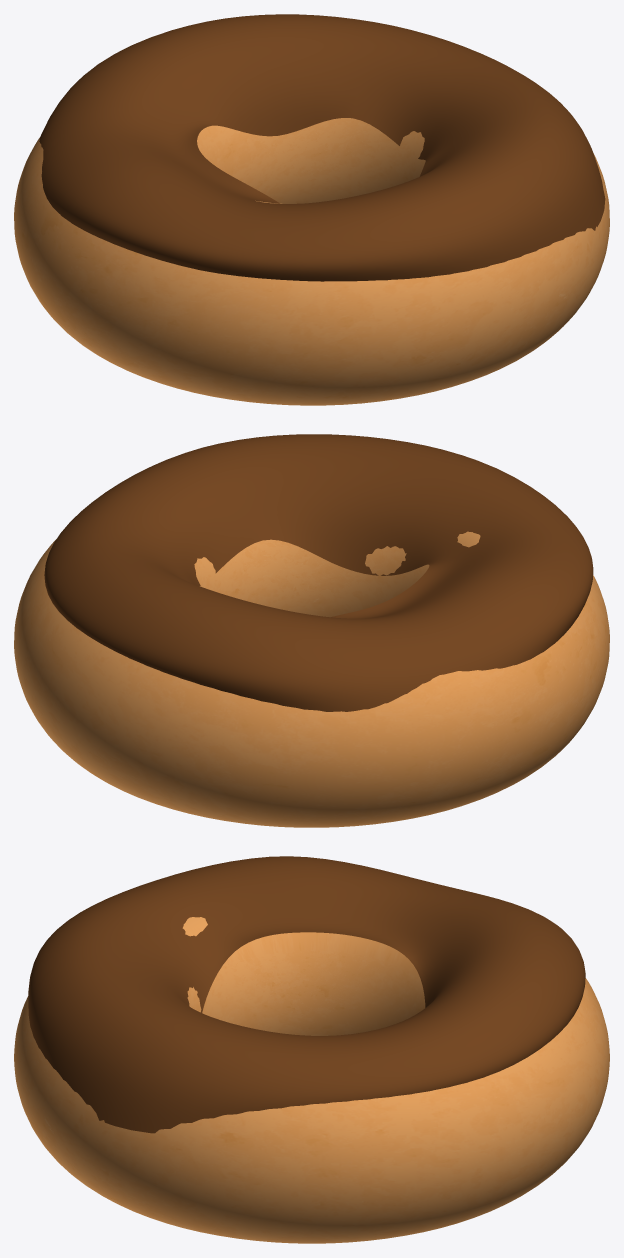
Rendered from Donut2.obj.
3 views of the same model, one above another, from view 1: azimuth 30°, elevation 25°; view 2: azimuth 150°, elevation 25°; view 3: azimuth 270°, elevation 25° (orthographic).
Parts seen in each view (by area): view 1: mesh02, mesh01; view 2: mesh02, mesh01; view 3: mesh02, mesh01.
Boxes of the visible parts, bbox=[...] form: mesh02: bbox=[39, 14, 605, 281]; mesh01: bbox=[14, 118, 609, 405]; mesh02: bbox=[44, 434, 593, 711]; mesh01: bbox=[14, 531, 609, 827]; mesh02: bbox=[28, 856, 585, 1133]; mesh01: bbox=[14, 917, 609, 1243].
Bounding box in the file's own units: 13.77 × 5.28 × 13.76.
Materials: 2 (1 with a texture image).
